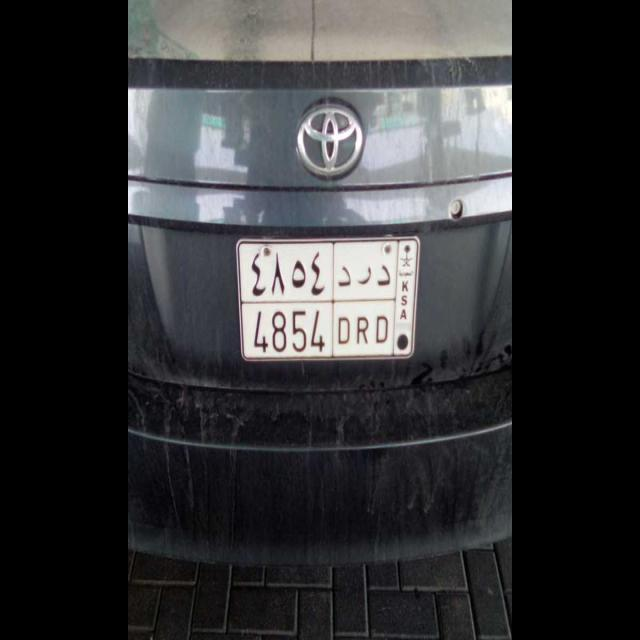license_plate: (243, 300, 394, 362)
